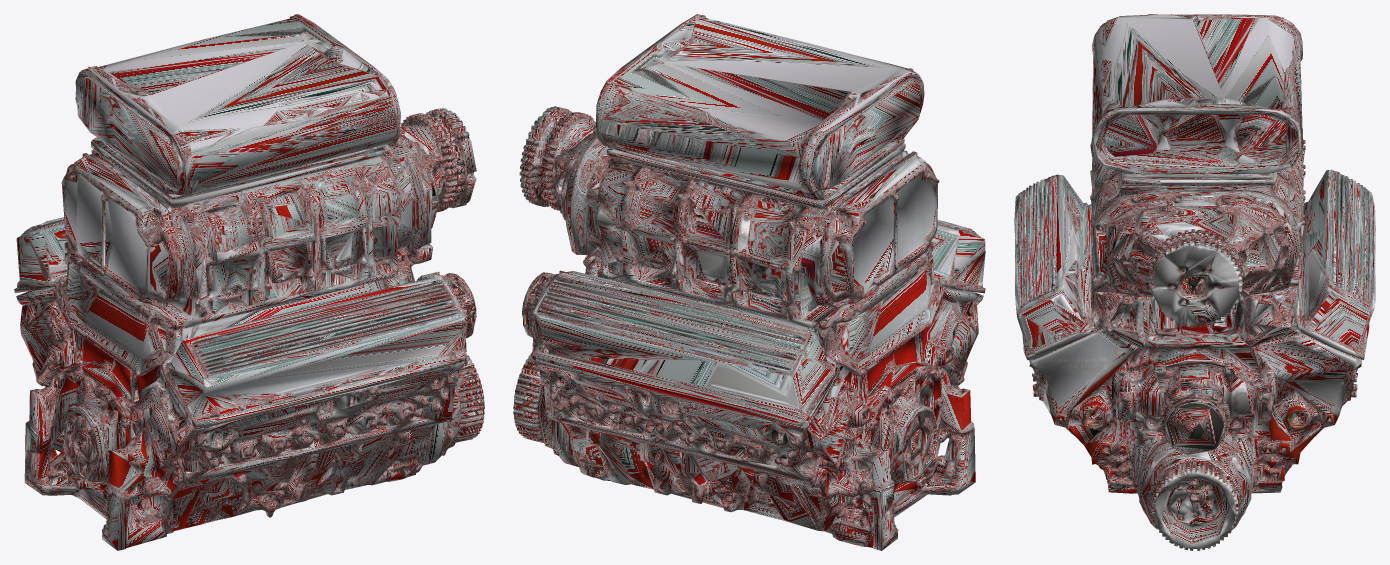
Rendered from engine_blown_v8.glb.
The picture shows the model from 3 angles, left to right: view 1: azimuth 30°, elevation 25°; view 2: azimuth 150°, elevation 25°; view 3: azimuth 270°, elevation 25°; orthographic projection. The views are drawn at different scales.
Bounding box in the file's own units: 0.9491 × 1 × 0.8024.
1 material, 1 textured.
